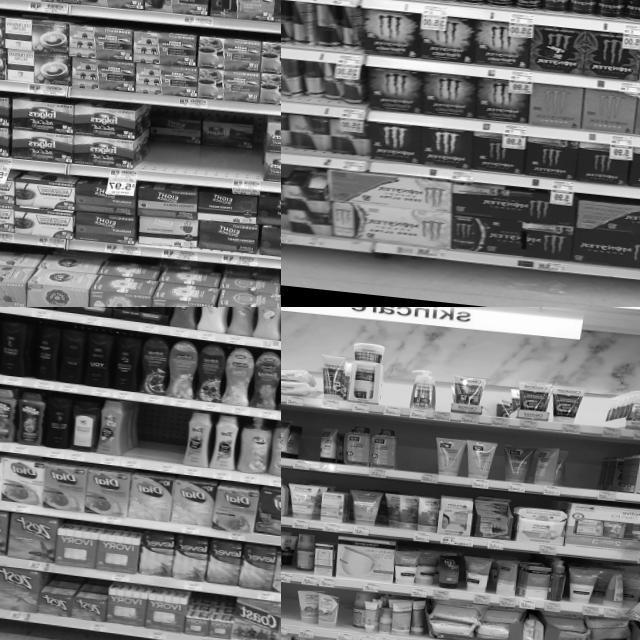empty: (136, 405, 188, 473), (396, 429, 436, 482), (565, 448, 601, 498), (378, 369, 412, 416), (580, 388, 612, 436), (296, 422, 320, 470), (434, 374, 455, 422), (335, 590, 354, 640), (281, 583, 297, 635), (482, 380, 500, 424)
